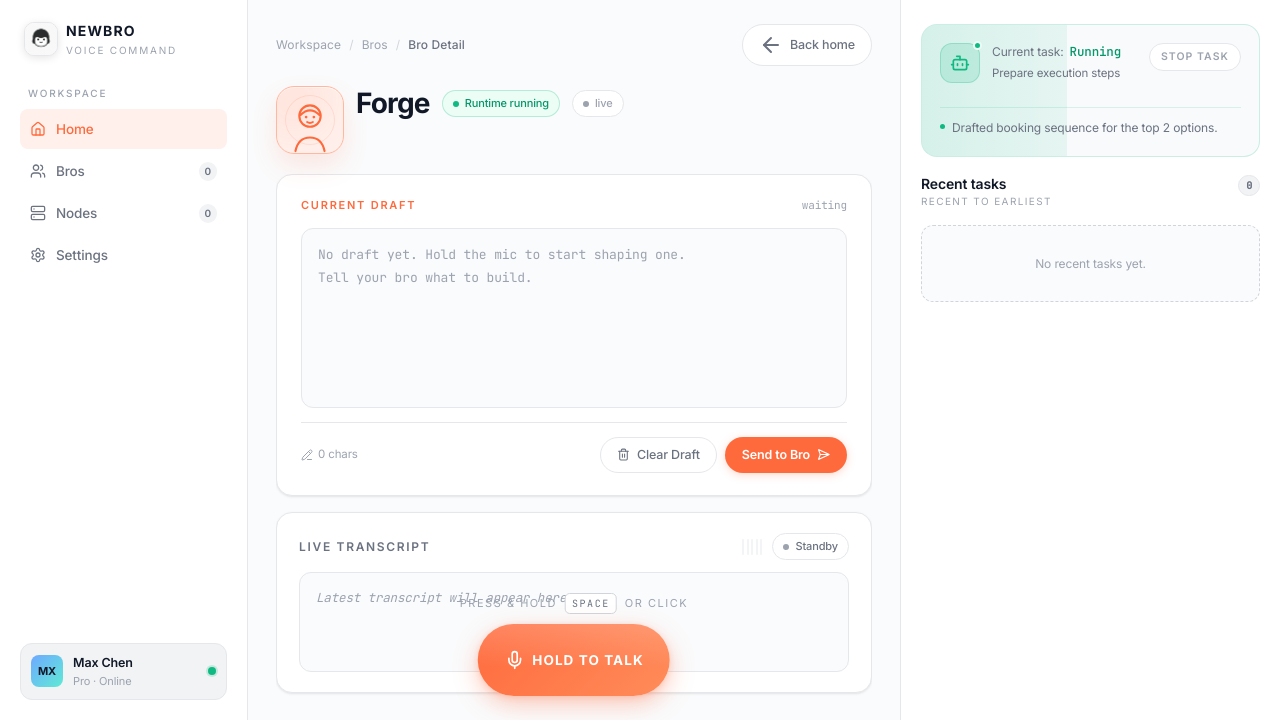
Newbro voice shell › renders final Bro detail transcript and returned draft content
The width and height of the screenshot is (1280, 720).
Press the mouse on the button "Hold to Talk": (574, 660) [478, 624, 670, 696]
Wait 2400 ms
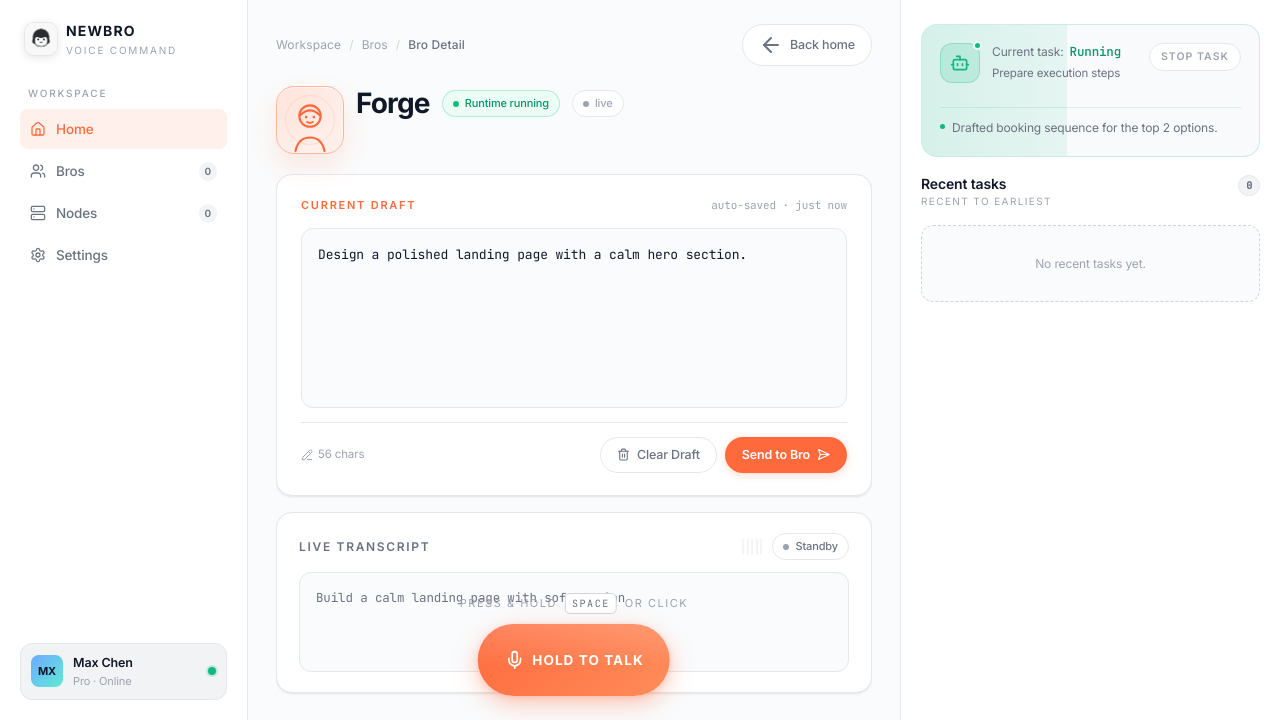
Expected: the text "Build a calm landing page with soft motion" is shown, [299, 572, 849, 672]
Expected: the text "Design a polished landing page with a calm hero section." is shown, [301, 228, 847, 408]
